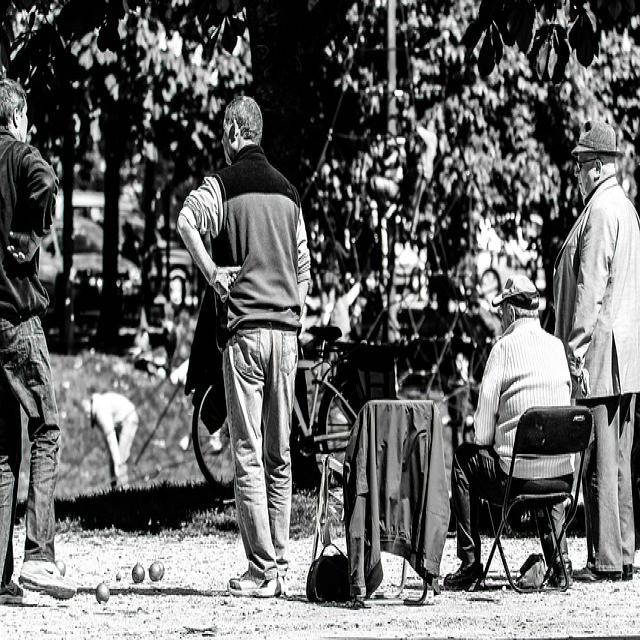hatball: (113, 570, 123, 587)
petanque: (93, 579, 113, 609), (129, 558, 146, 586), (150, 559, 166, 585), (53, 558, 69, 580)
